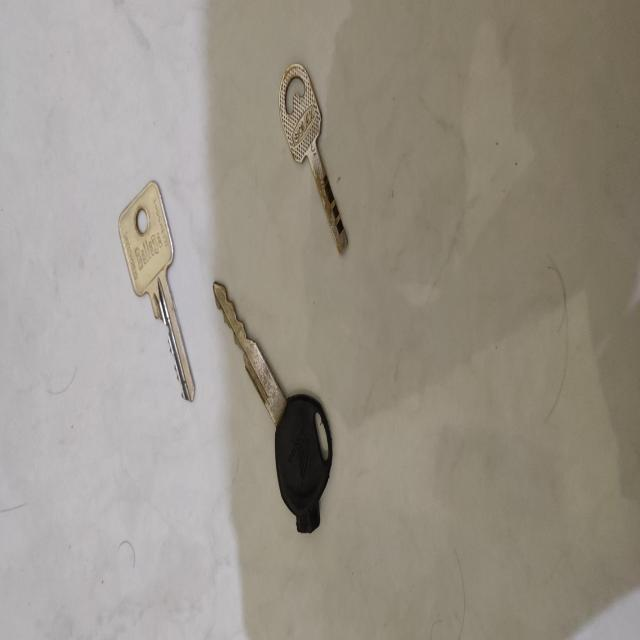kunci_kos: (117, 173, 201, 406)
kunci_motor: (211, 277, 335, 542)
kunci_pagar: (278, 60, 350, 257)
